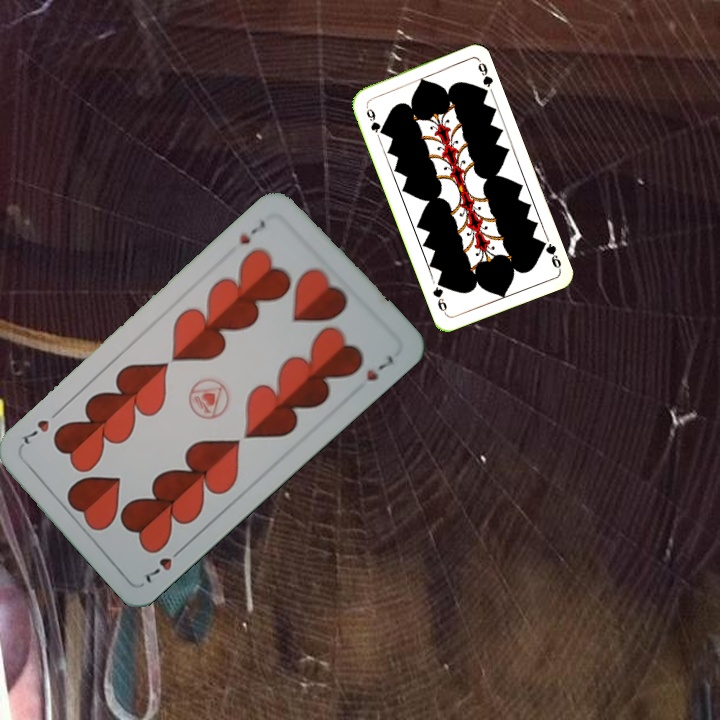G9: (536, 236, 564, 272), (362, 101, 386, 137)
H7: (141, 541, 188, 586), (235, 215, 269, 247)
